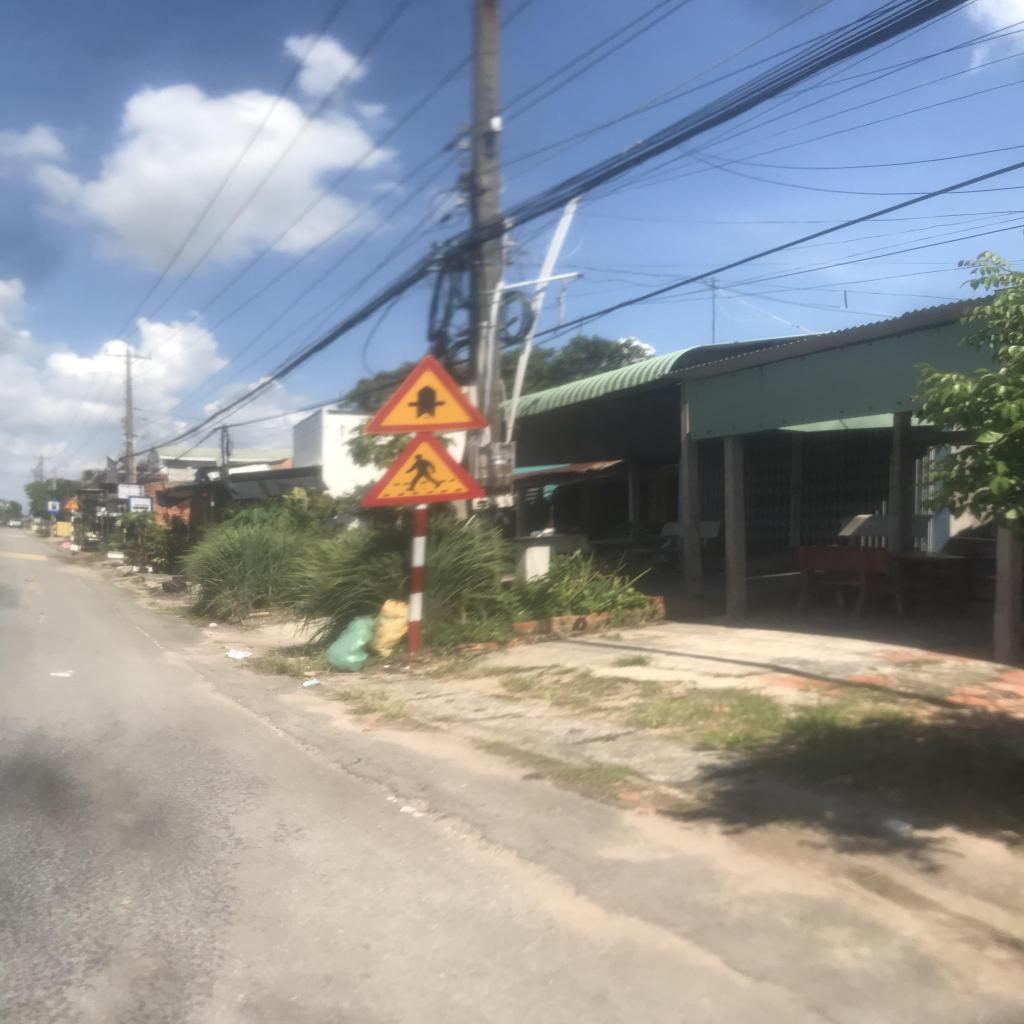cho_ngoat_nguy_hiem_ben_phai: (63, 498, 79, 509)
chu_y_nguoi_di_bo_cat_ngang: (357, 425, 489, 506)
giao_nhau_voi_duong_khong_uu_tien: (360, 350, 491, 432)
khac: (47, 500, 60, 514)
